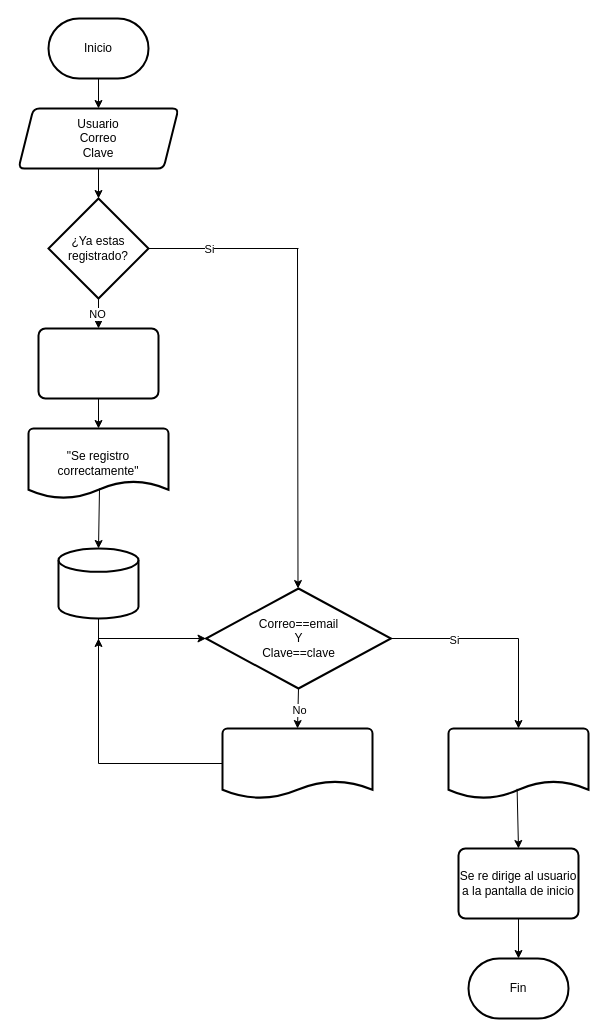
Some shapes in this 606 by 1036 pixel diagram are drawn without their labels. The centre of each missing label's shape, as x and y in pixels:
"Bienvenido": pixel 518 763
"El Correo o la contraseña no coninciden": pixel 297 763
CRDataBase: pixel 98 583
Registrar: Usuario Correo Clave: pixel 98 363
